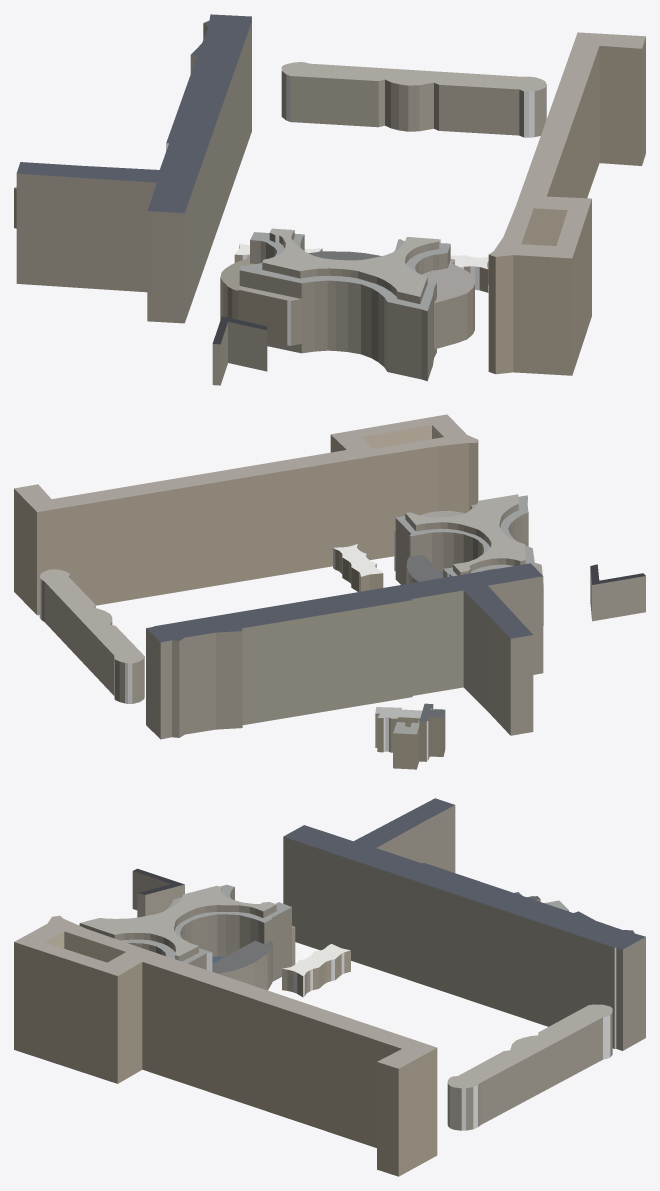
3 views of the same model, one above another, from view 1: azimuth 30°, elevation 25°; view 2: azimuth 150°, elevation 25°; view 3: azimuth 270°, elevation 25° (orthographic). The views are drawn at different scales.
Parts seen in each view (by area): view 1: tuile; view 2: tuile; view 3: tuile.
Part boxes in pixels (x1,y1,x2,y2): tuile: [14, 14, 645, 385]; tuile: [14, 414, 645, 769]; tuile: [14, 798, 645, 1176].
Bounding box in the file's own units: 375 × 72.02 × 366.
